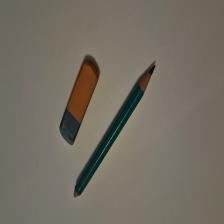eraser: (61, 61, 101, 147)
pencil: (74, 66, 157, 200)
